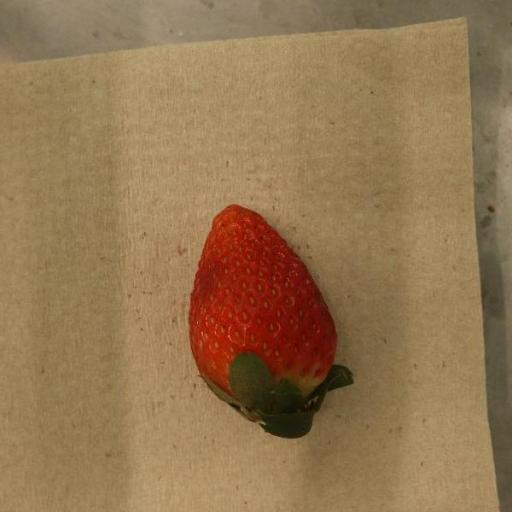Strawberry: (188, 204, 354, 441)
